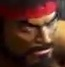ryu: (7, 0, 60, 65)
